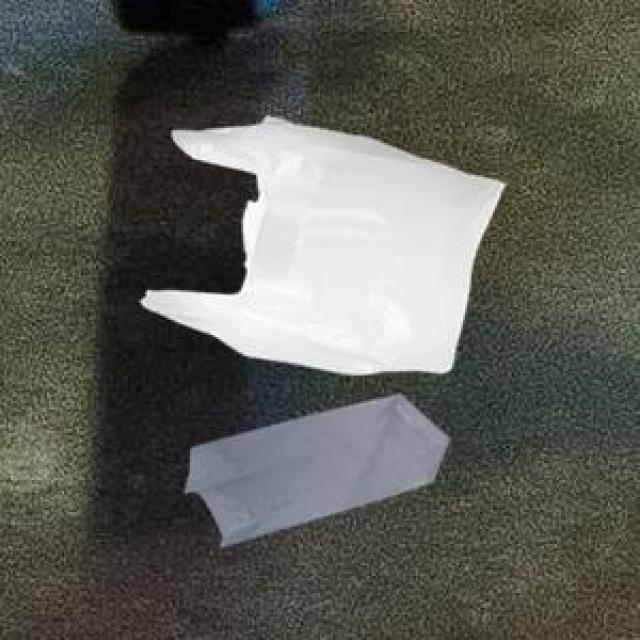waste: (142, 116, 504, 374), (186, 395, 449, 546)
